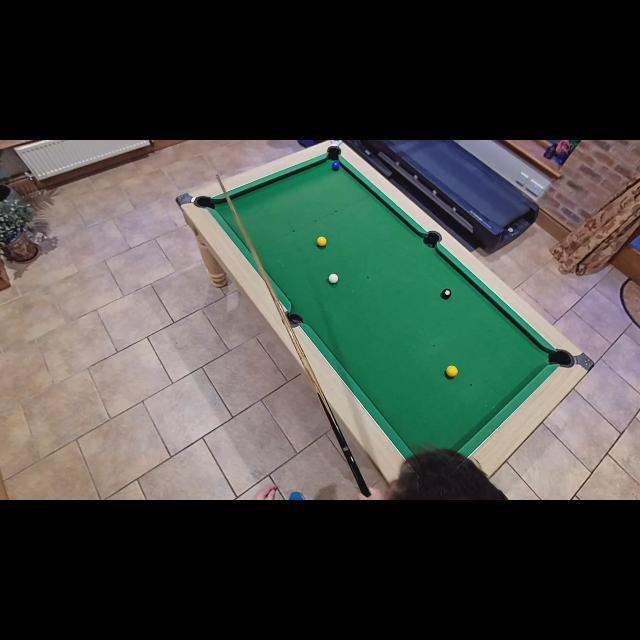Ball: (447, 366, 458, 376), (317, 237, 327, 247), (328, 273, 338, 283), (442, 288, 452, 298), (332, 162, 341, 170)
